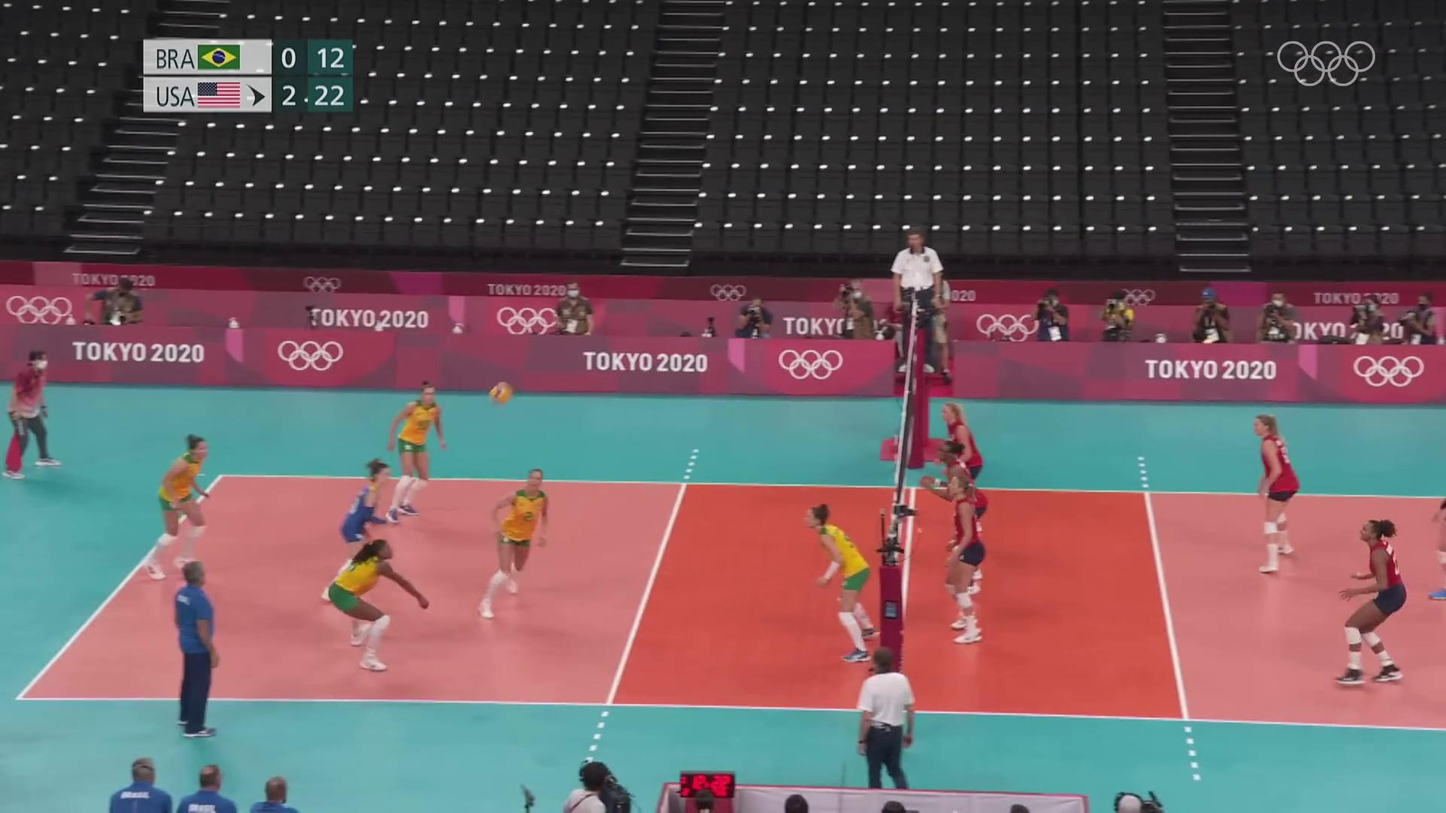player: (324, 538, 430, 672), (802, 504, 882, 665), (1335, 518, 1410, 684), (142, 436, 213, 581), (484, 471, 549, 619), (386, 381, 451, 521), (930, 443, 987, 596), (1249, 414, 1301, 572), (338, 457, 397, 595), (945, 475, 986, 644), (937, 403, 986, 533)
refree: (853, 656, 914, 791), (894, 229, 945, 373), (1, 351, 58, 473)
